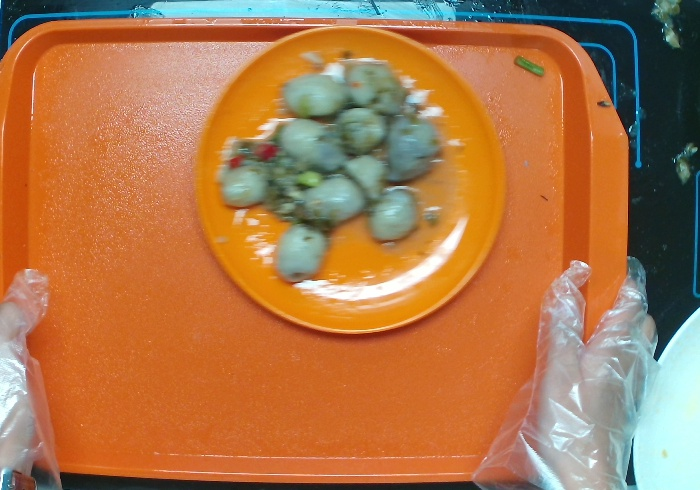HZYJPL-Ju_Huang_Yuan_Pan: (189, 21, 510, 346)
